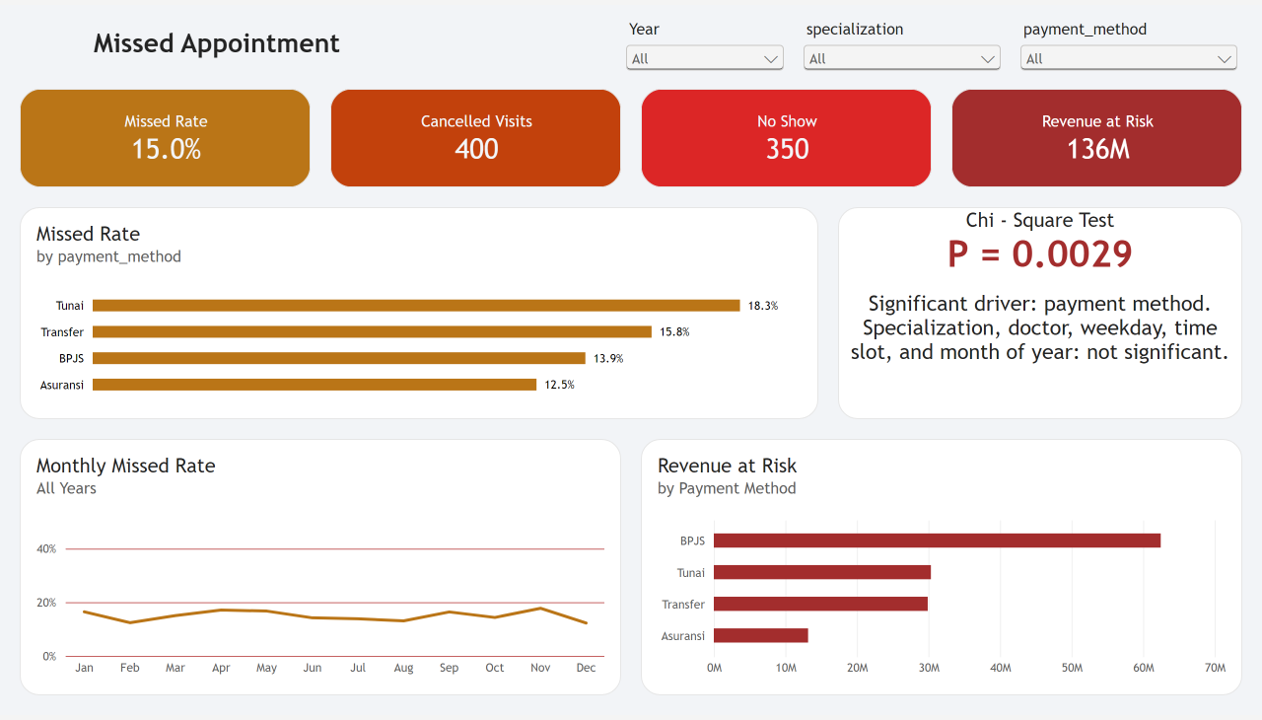

What the dashboard file says about the page in this screenshot:
{"tool":"powerbi","page":{"name":"Missed Appointments","canvas":[1280,720],"ordinal":1},"visuals":[{"type":"textbox","box":[20,23,400,40],"z":0},{"type":"slicer","fields":{"Values":["Calendar.Year"]},"box":[630,15,170,60],"z":1000},{"type":"slicer","fields":{"Values":["doctors.specialization"]},"box":[810,15,210,60],"z":2000},{"type":"slicer","fields":{"Values":["appointments.payment_method"]},"box":[1030,15,230,60],"z":3000},{"type":"cardVisual","fields":{"Data":["appointments.Missed Rate"]},"box":[20,85,295,100],"z":4000},{"type":"cardVisual","fields":{"Data":["appointments.Cancelled Visits"]},"box":[335,85,295,100],"z":5000},{"type":"cardVisual","fields":{"Data":["appointments.No Show"]},"box":[650,85,295,100],"z":6000},{"type":"cardVisual","fields":{"Data":["appointments.Revenue at Risk"]},"box":[965,85.5,295,100],"z":7000},{"type":"barChart","fields":{"Category":["appointments.payment_method"],"Y":["appointments.Missed Rate"]},"box":[20,205,810,215],"z":8000},{"type":"textbox","title":"Chi - Square Test","box":[850,205,410,215],"z":9000},{"type":"lineChart","title":"Monthly Missed Rate","fields":{"Category":["Calendar.Month"],"Y":["appointments.Missed Rate"]},"box":[20,440,610,260],"z":10000},{"type":"barChart","title":"Revenue at Risk ","fields":{"Category":["appointments.payment_method"],"Y":["appointments.Revenue at Risk"]},"box":[650,440,610,260],"z":11000}]}

Visuals, with their boxes in screenshot pixels (x1, y1, x2, y2), scaled from the page's 1280x720 canvas onto the 1262x720 screenshot:
textbox: 20/23/414/63
slicer - Calendar.Year: 621/15/789/75
slicer - doctors.specialization: 799/15/1006/75
slicer - appointments.payment_method: 1016/15/1242/75
cardVisual - appointments.Missed Rate: 20/85/311/185
cardVisual - appointments.Cancelled Visits: 330/85/621/185
cardVisual - appointments.No Show: 641/85/932/185
cardVisual - appointments.Revenue at Risk: 951/86/1242/186
barChart - appointments.payment_method x appointments.Missed Rate: 20/205/818/420
"Chi - Square Test" textbox: 838/205/1242/420
"Monthly Missed Rate" lineChart: 20/440/621/700
"Revenue at Risk " barChart: 641/440/1242/700
